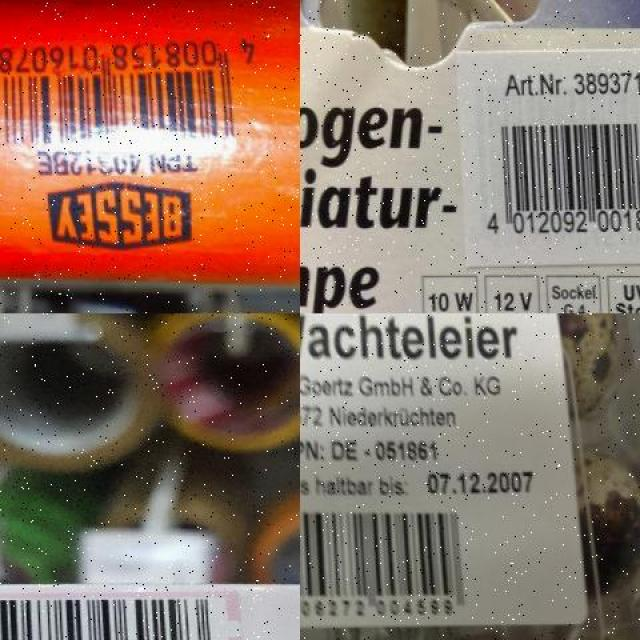Barcode: (0, 25, 272, 152), (468, 109, 640, 248), (300, 500, 480, 624), (0, 597, 215, 640)
